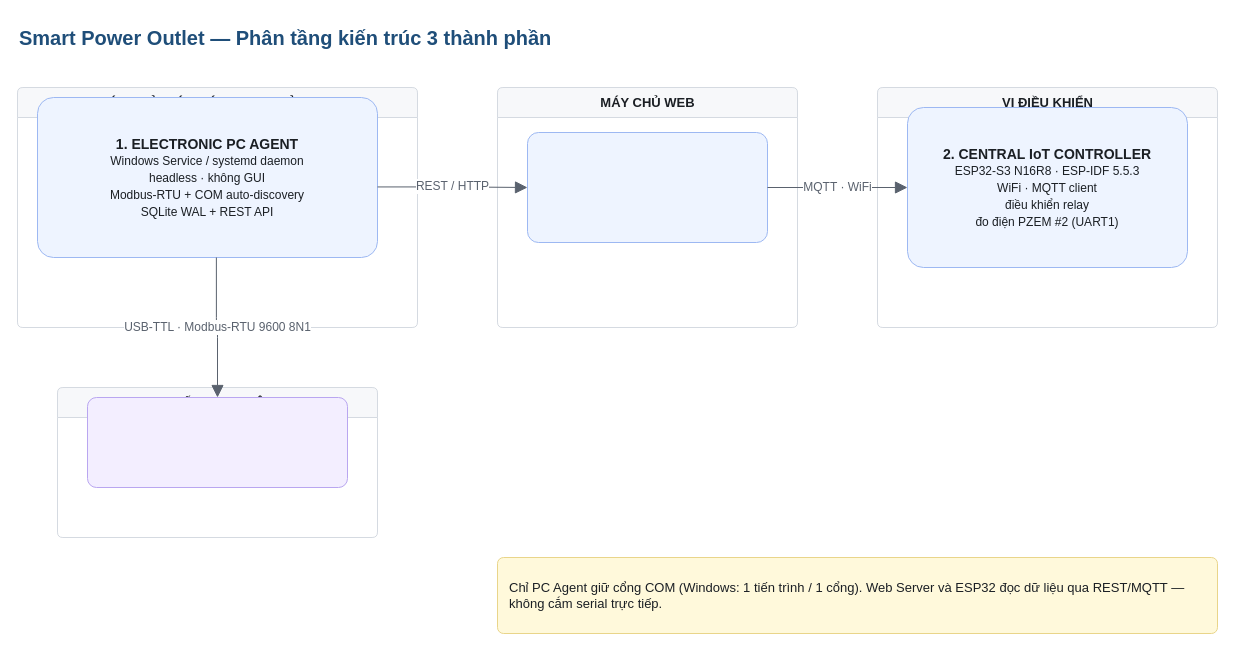
This 1235x651 diagram has some shape labels left out. The centre of each missing label's shape, as x and y in pixels:
3. WEB SERVER giao diện web + API người dùng báo cáo · lịch sử sự cố: the point at 647,187
PZEM-004T V3.0 đo 1 pha 220 V AC Modbus-RTU slave 0x01: the point at 217,442
